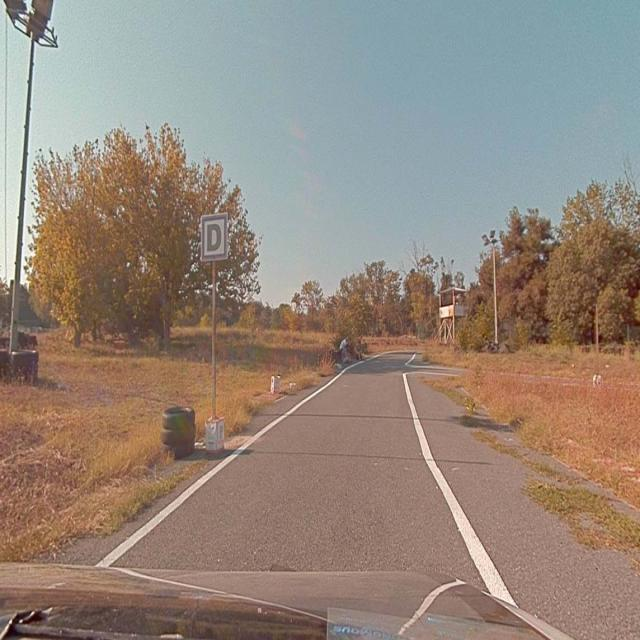durak: (200, 215, 227, 260)
